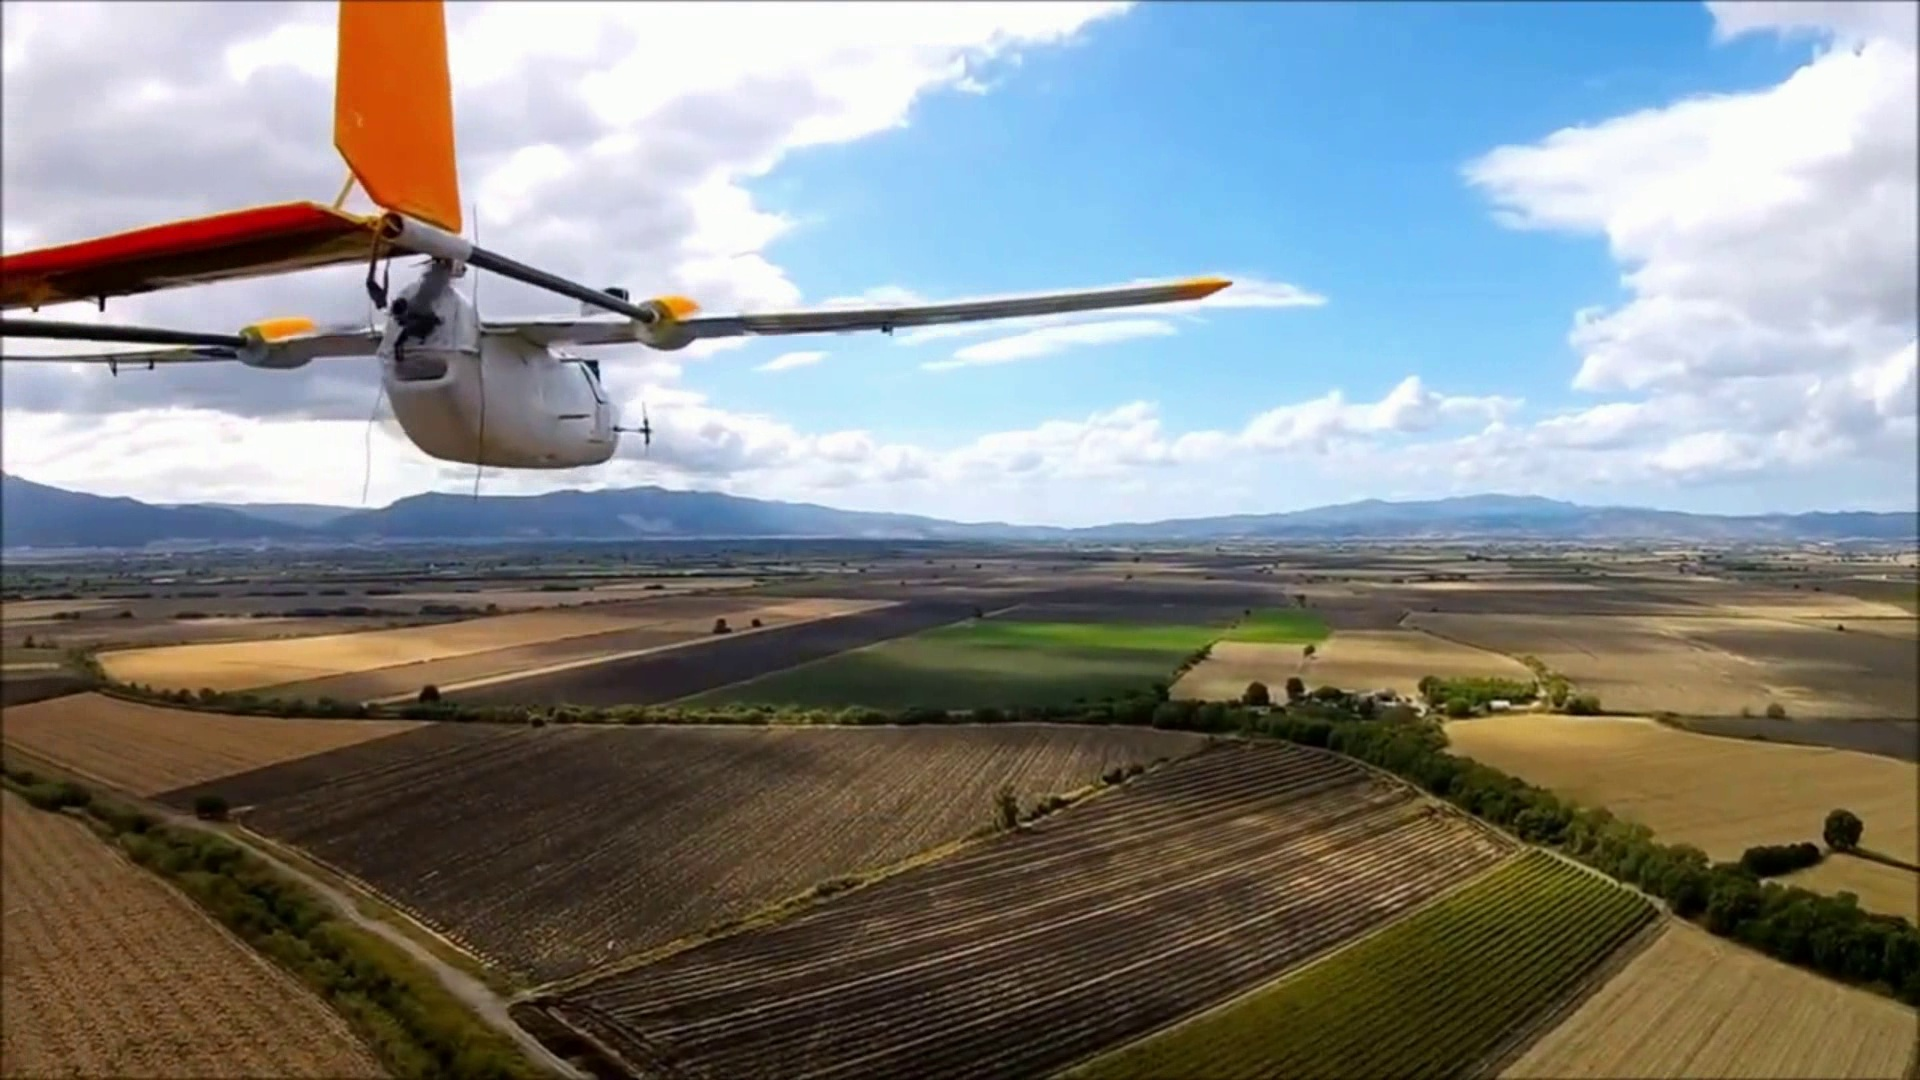airplane: (0, 5, 1236, 476)
